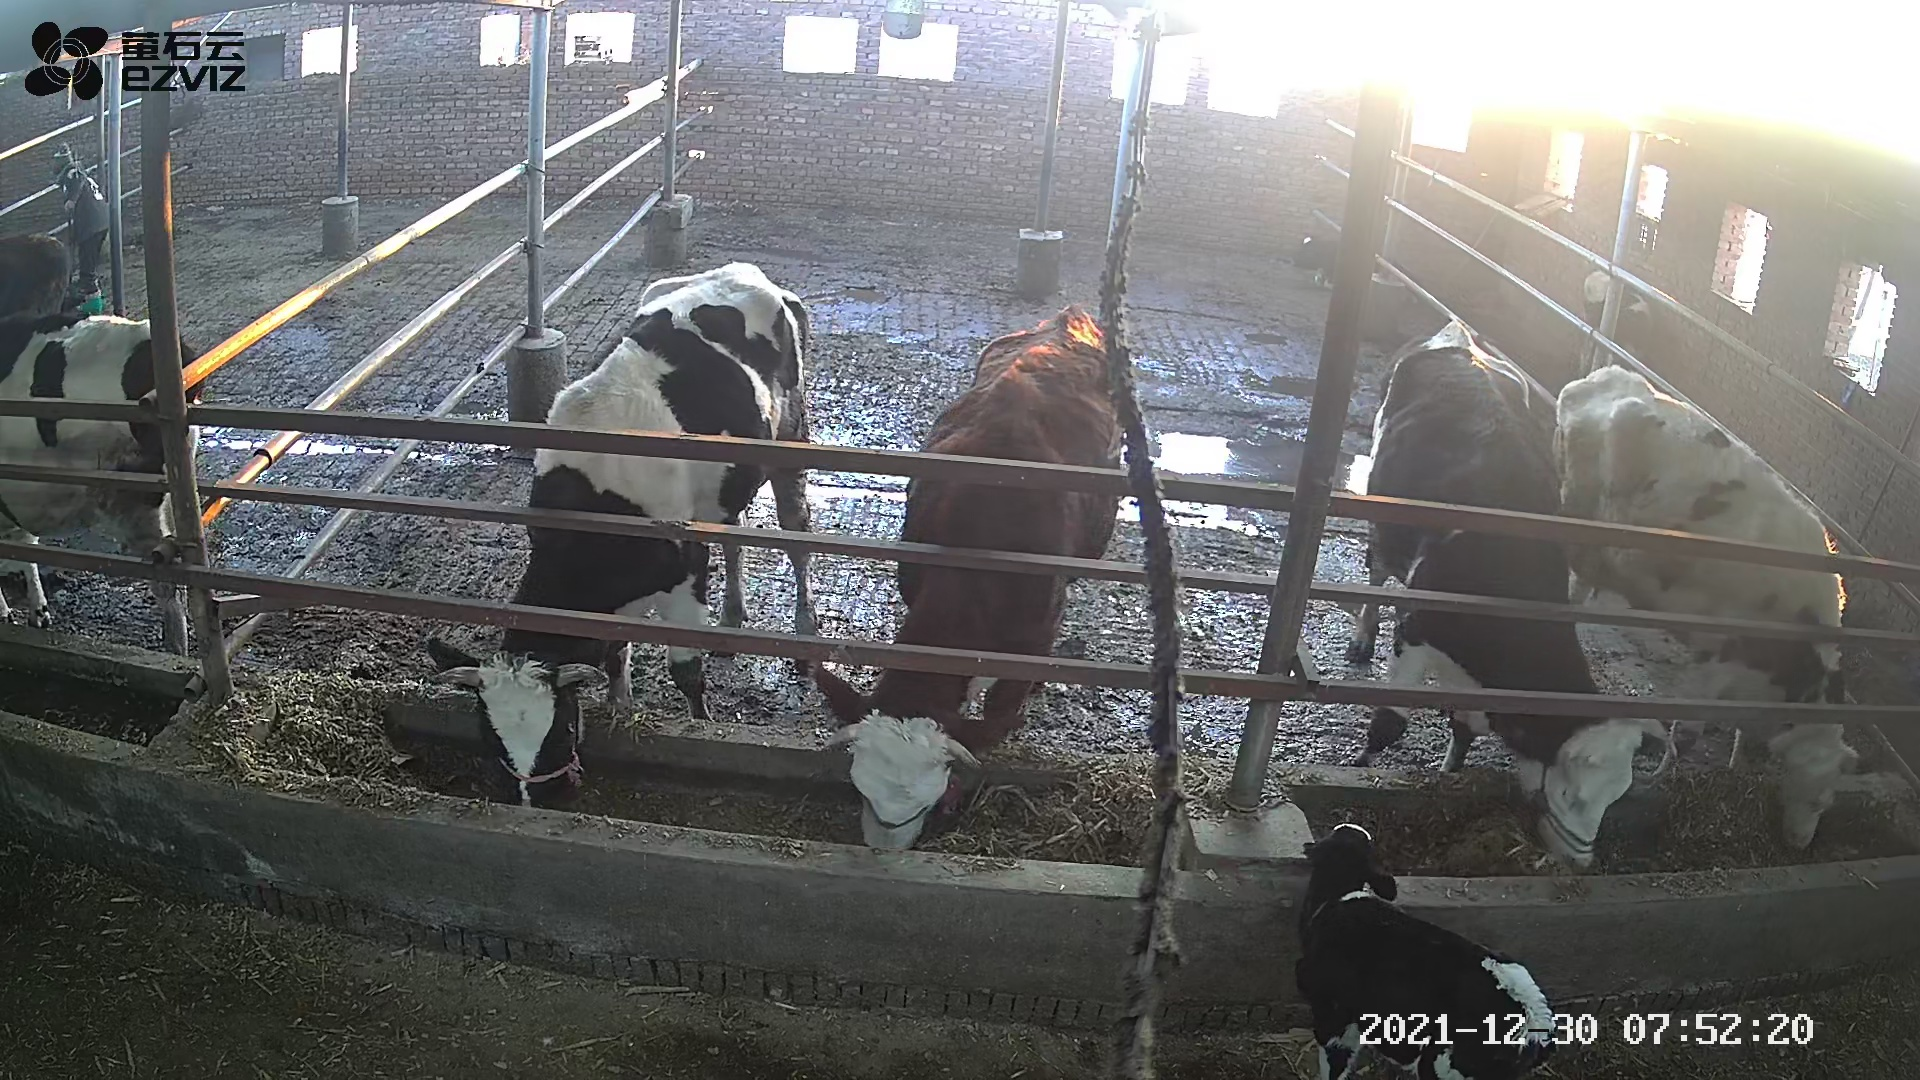cow: (425, 261, 819, 807), (1344, 315, 1677, 876), (808, 303, 1124, 866), (1553, 363, 1861, 858)
